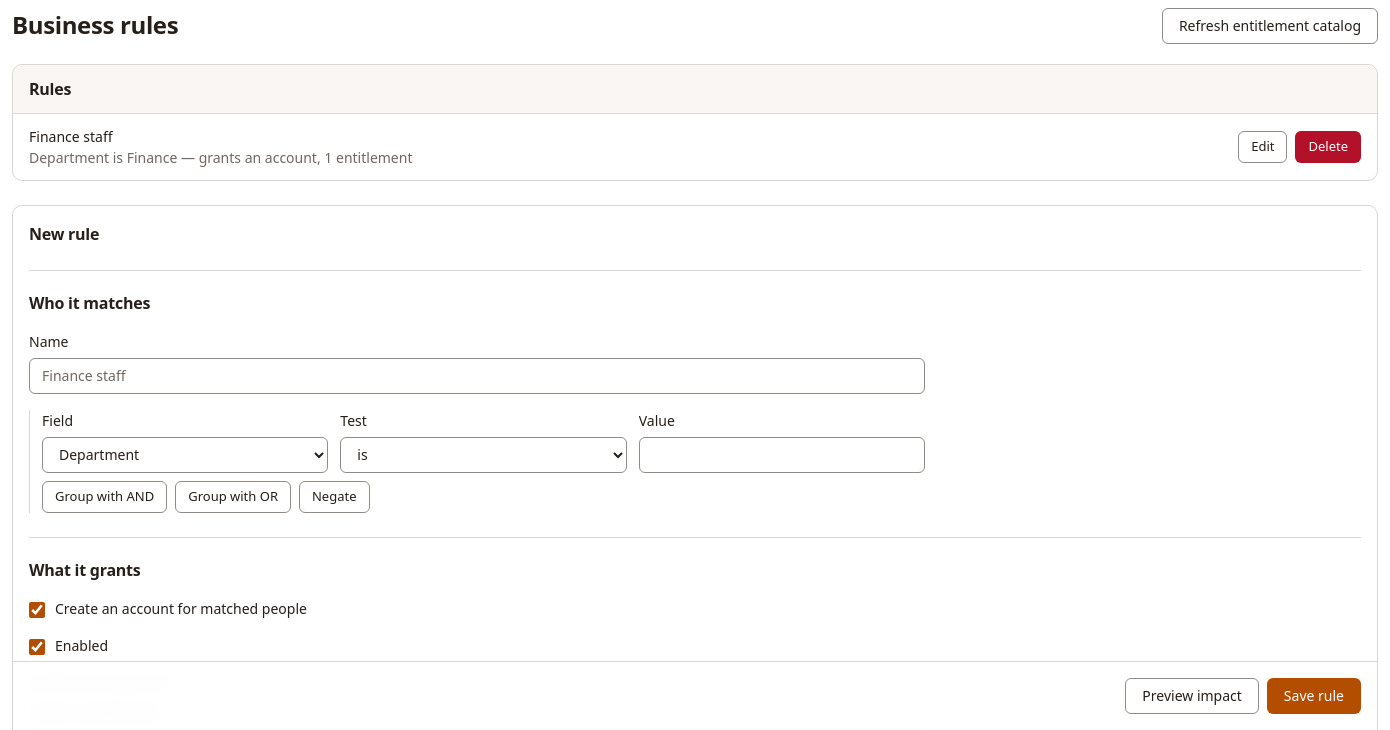
Test: BusinessRulesPage › requires a fresh impact before saving edits to an existing rule
Click the button "Edit".
click(1263, 147)  # box left=1238, top=131, right=1288, bottom=163
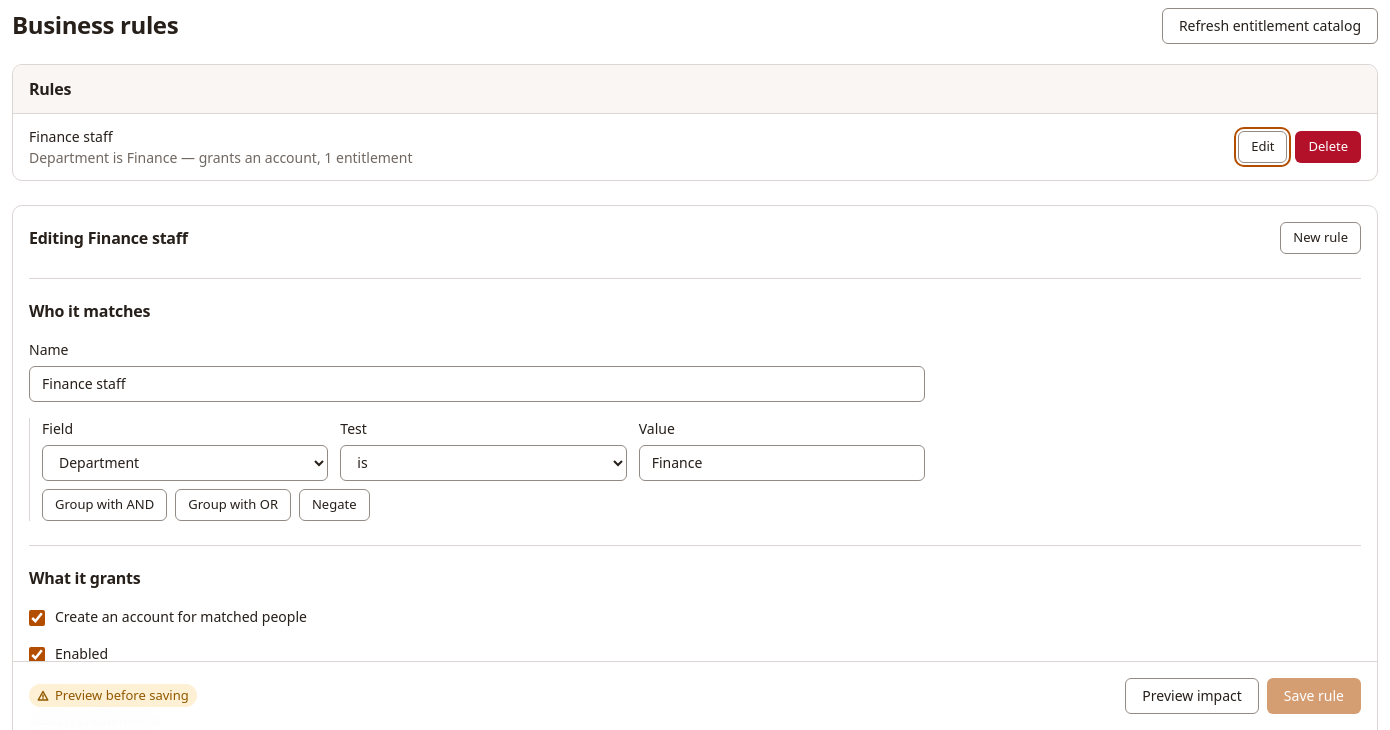
expect the button "Save rule" is disabled: met, box left=1267, top=678, right=1361, bottom=714
Click the button "Preview impact".
click(1192, 696)  # box left=1125, top=678, right=1259, bottom=714
(page scrolled)
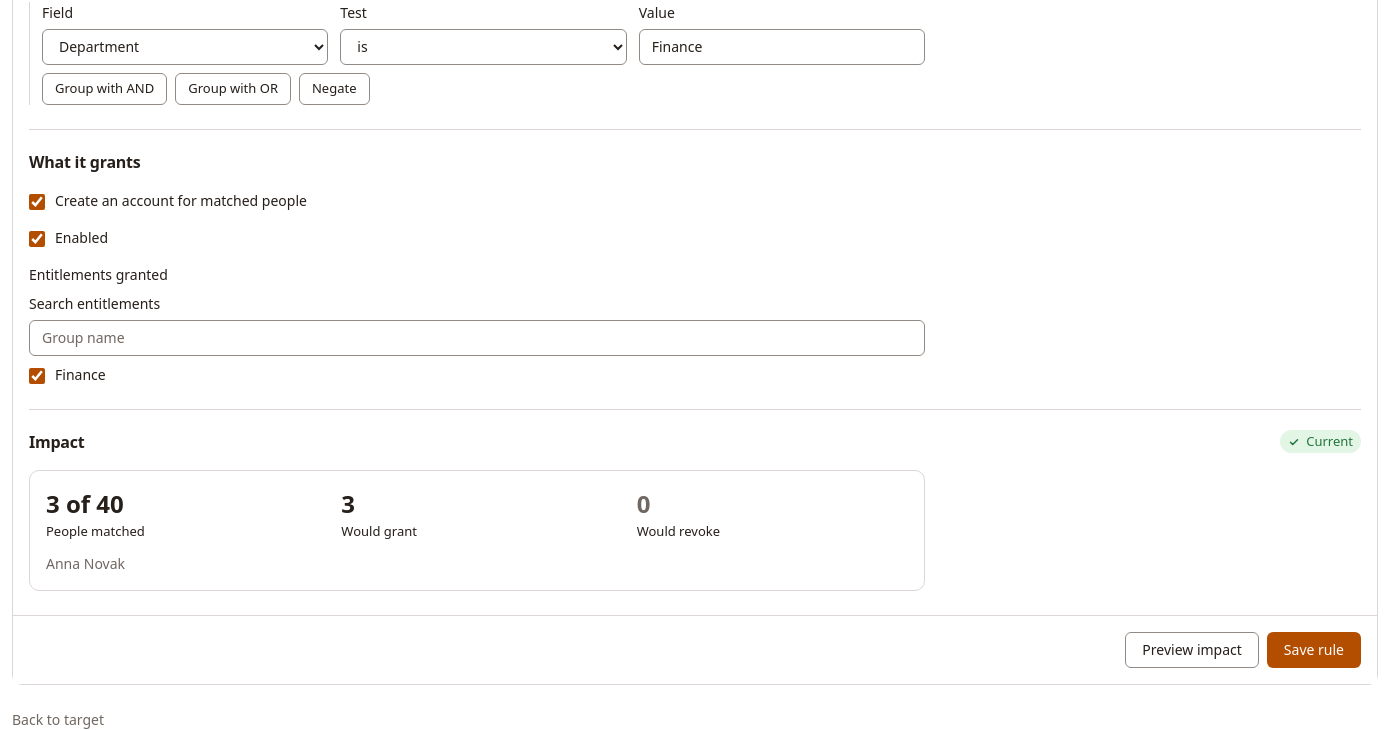
expect the text "People matched" is shown: met, box left=46, top=522, right=145, bottom=540
expect the button "Save rule" is enabled: met, box left=1267, top=632, right=1361, bottom=668
Click the checkbox labelled "Finance".
click(37, 376)  # box left=29, top=368, right=45, bottom=384
(page scrolled)
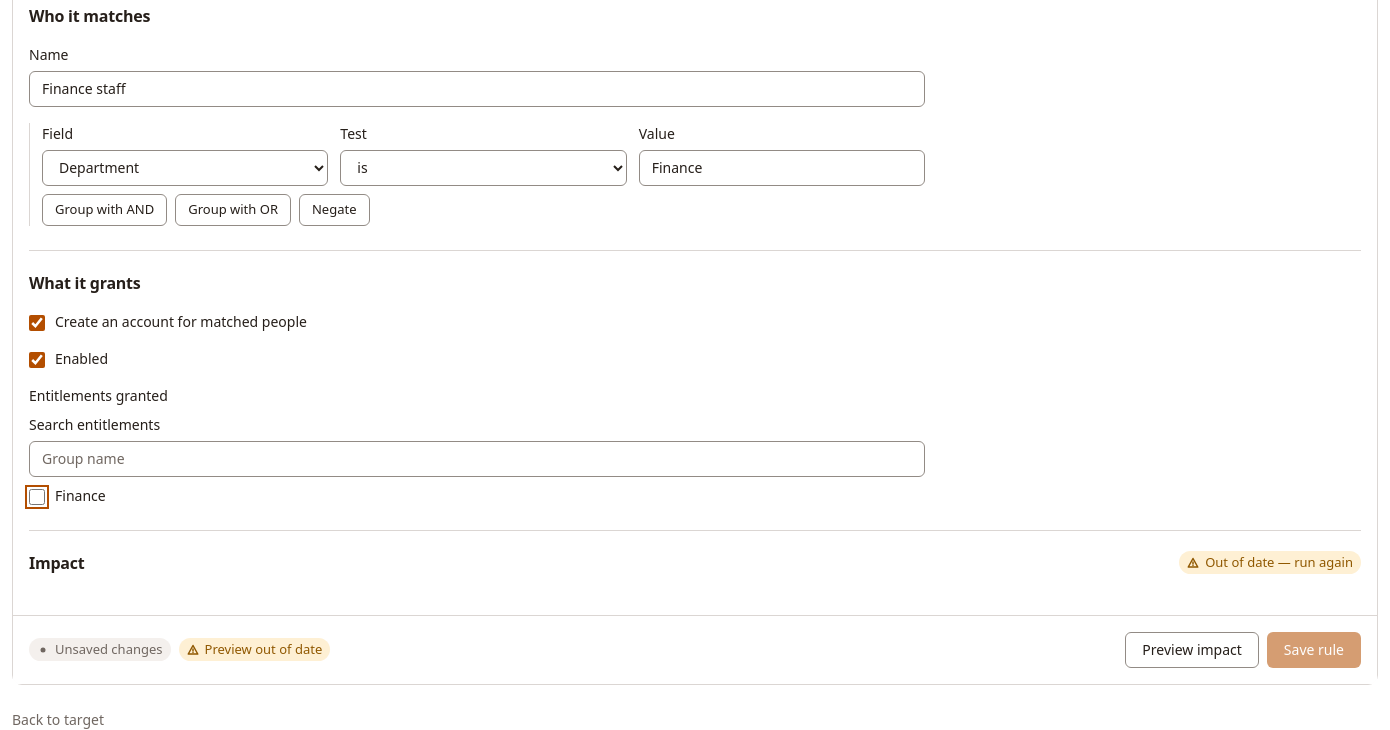
expect the button "Save rule" is disabled: met, box left=1267, top=632, right=1361, bottom=668
